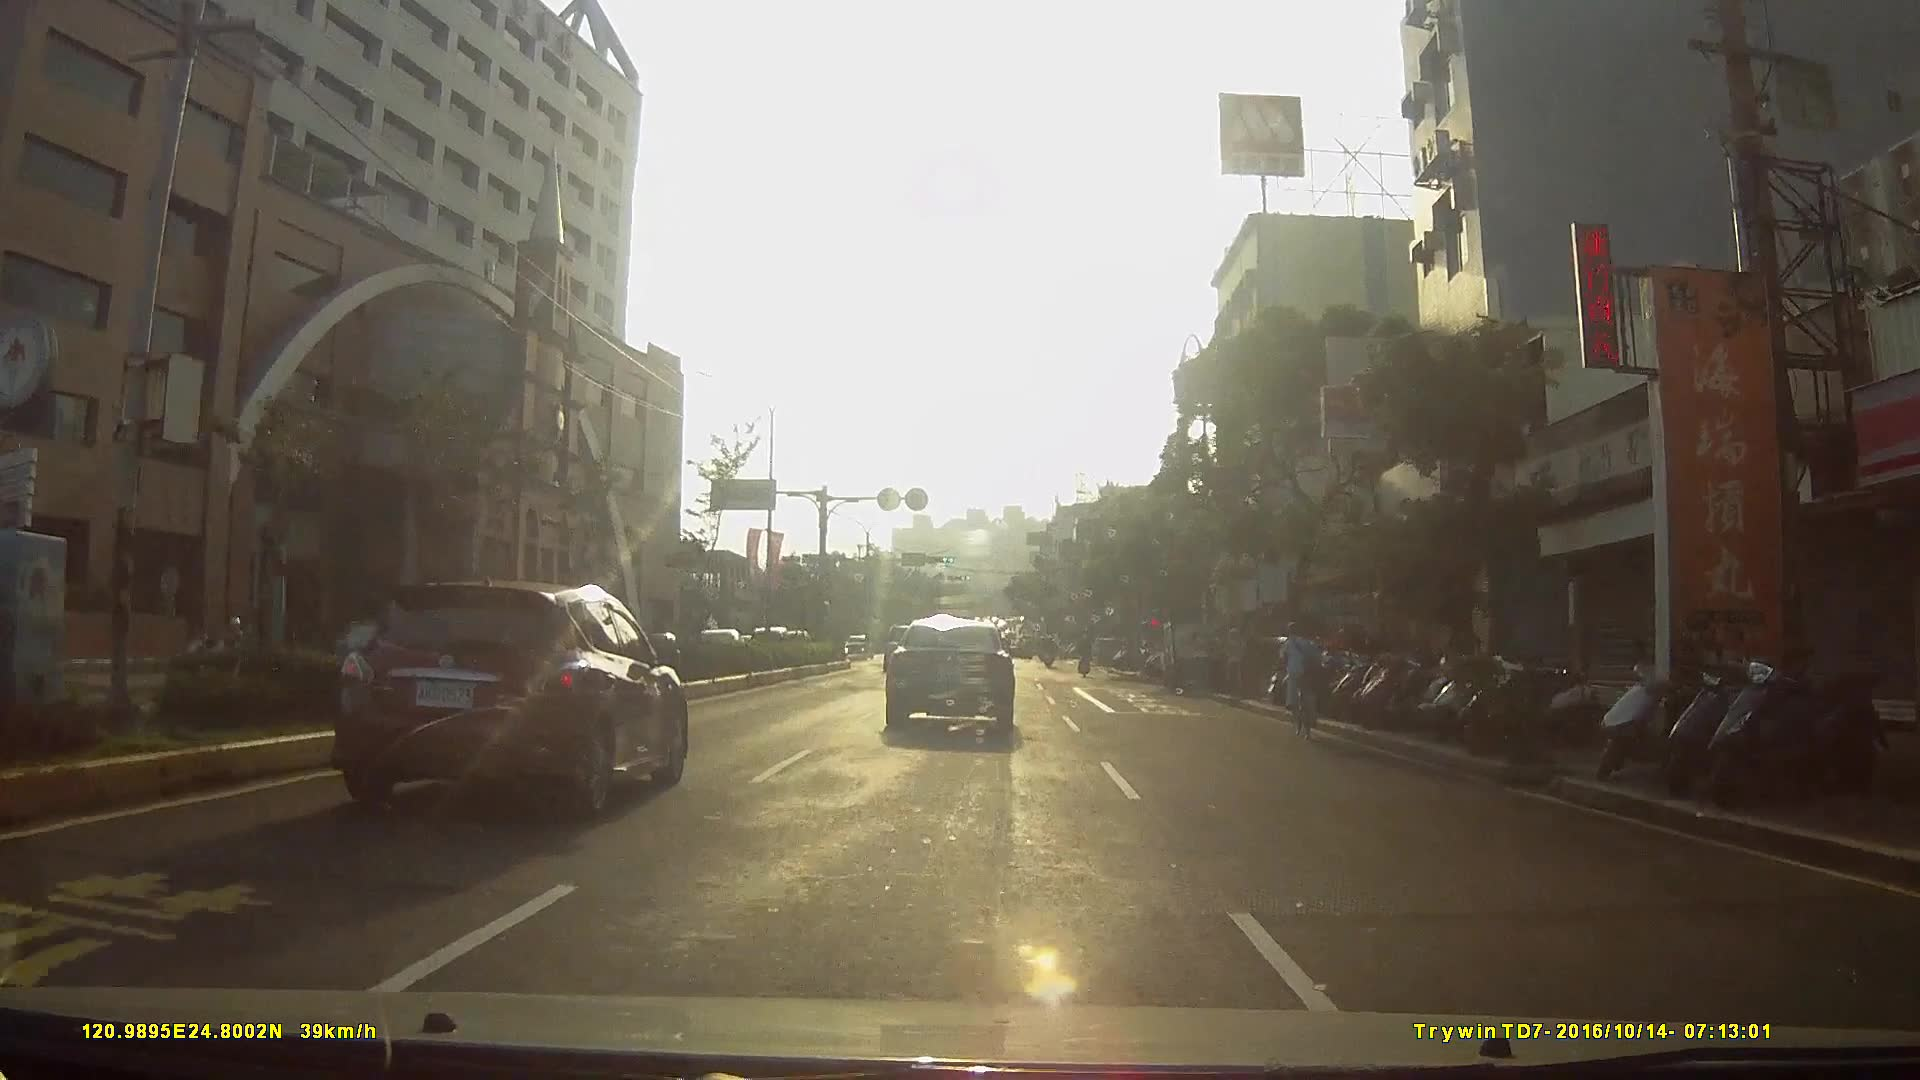rider: (1276, 619, 1326, 740)
vehicle: (328, 572, 701, 819), (879, 612, 1029, 742), (1156, 610, 1233, 687), (763, 607, 822, 662)
